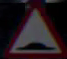Speed Breaker ahead: (5, 5, 59, 51)
